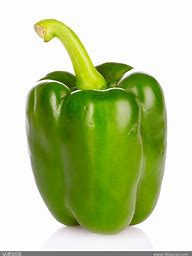fruit_pepper: (22, 17, 167, 236)
